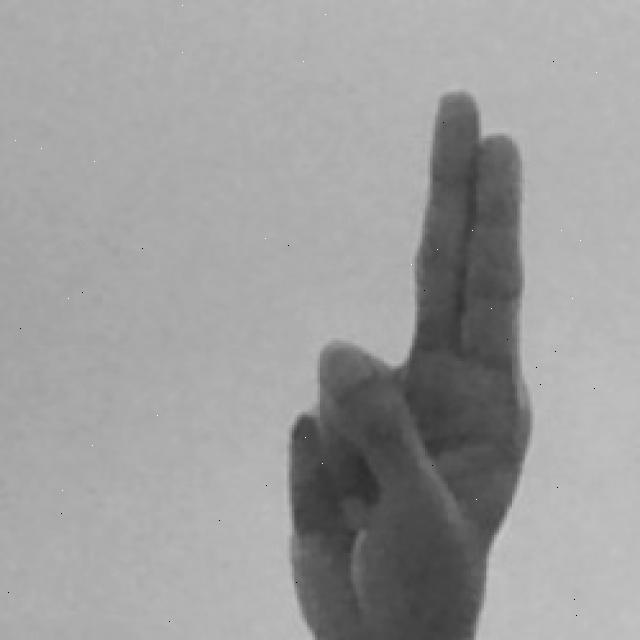U: (282, 83, 537, 640)
